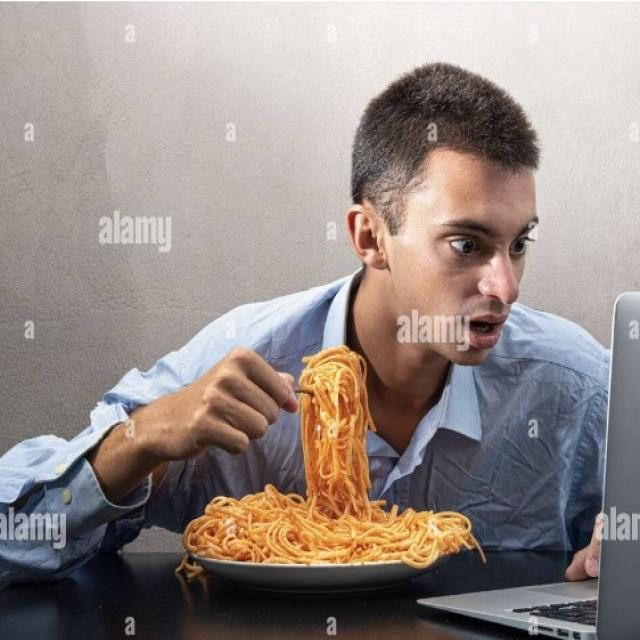eating-person: (0, 53, 598, 595)
